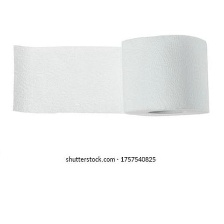tissue: (5, 27, 215, 122)
